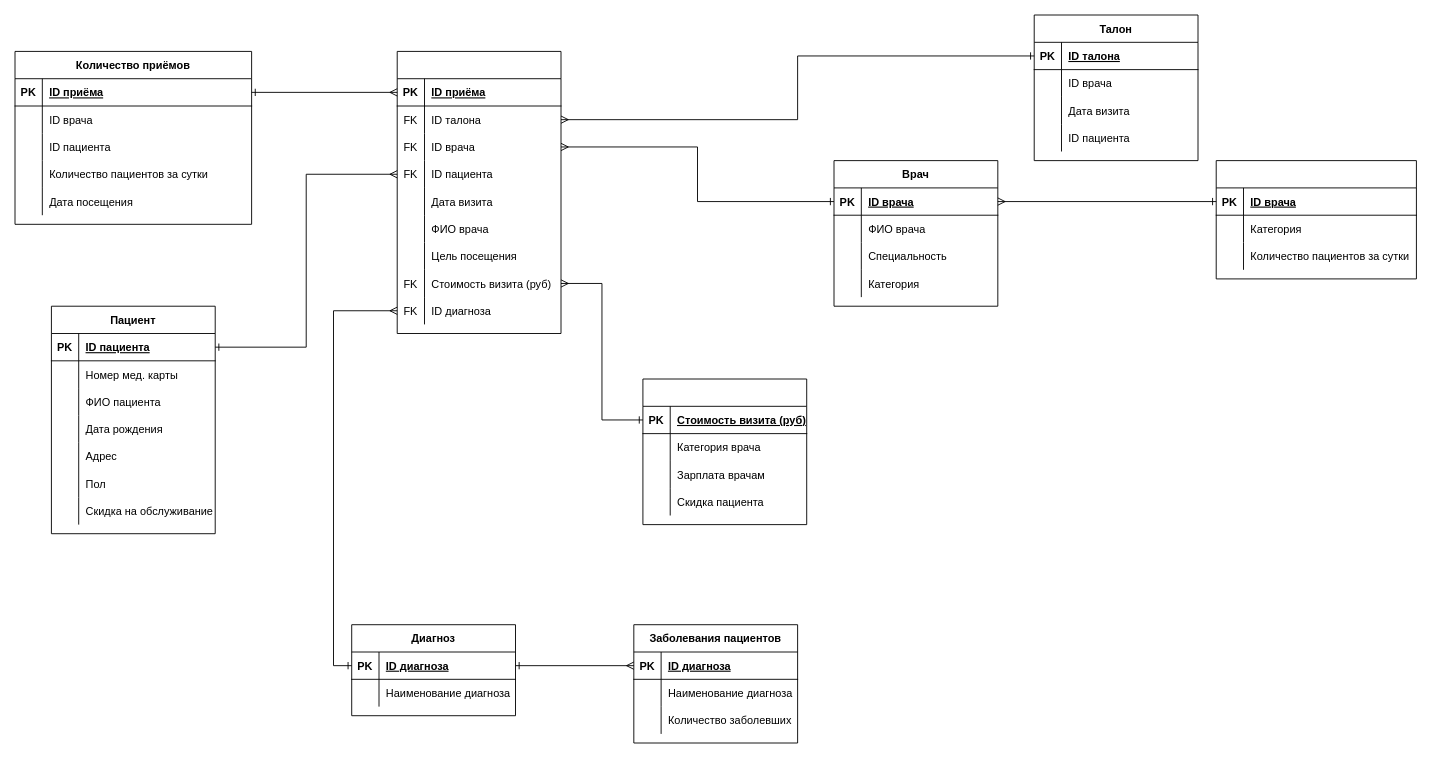
This 1431x758 diagram has some shape labels left out. Each missing label, with the box of its shape:
Выручка: (642, 378, 807, 525)
Загрузка врачей: (1215, 160, 1416, 279)
Приёмы: (396, 51, 561, 334)
